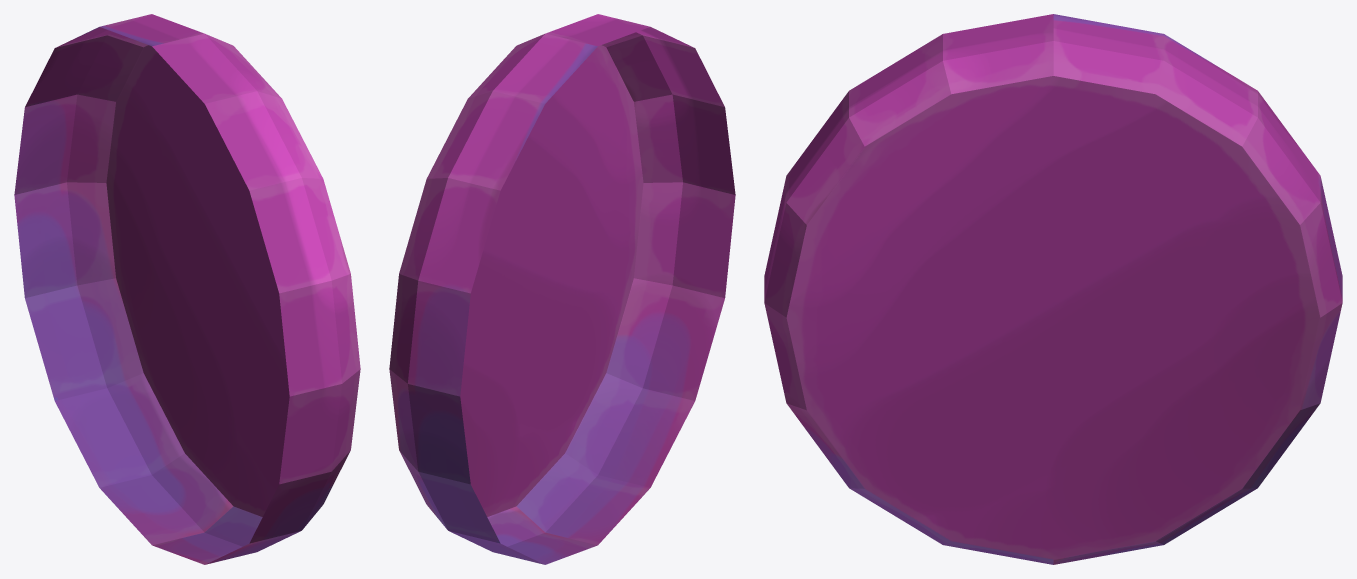
File: ButtonPipka (3).fbx
3 views of the same model, side by side, from view 1: azimuth 30°, elevation 25°; view 2: azimuth 150°, elevation 25°; view 3: azimuth 270°, elevation 25° (orthographic). The views are drawn at different scales.
Parts seen in each view (by area): view 1: button.001; view 2: button.001; view 3: button.001.
Boxes of the visible parts, x1=… form: button.001: x1=14, y1=14, x2=360, y2=564; button.001: x1=389, y1=14, x2=735, y2=564; button.001: x1=764, y1=14, x2=1342, y2=564.
Size of the model in its own units: 5.83 by 34.1 by 34.1.
